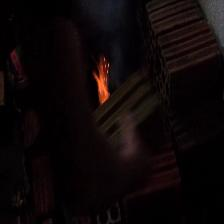fire: (95, 57, 113, 103)
